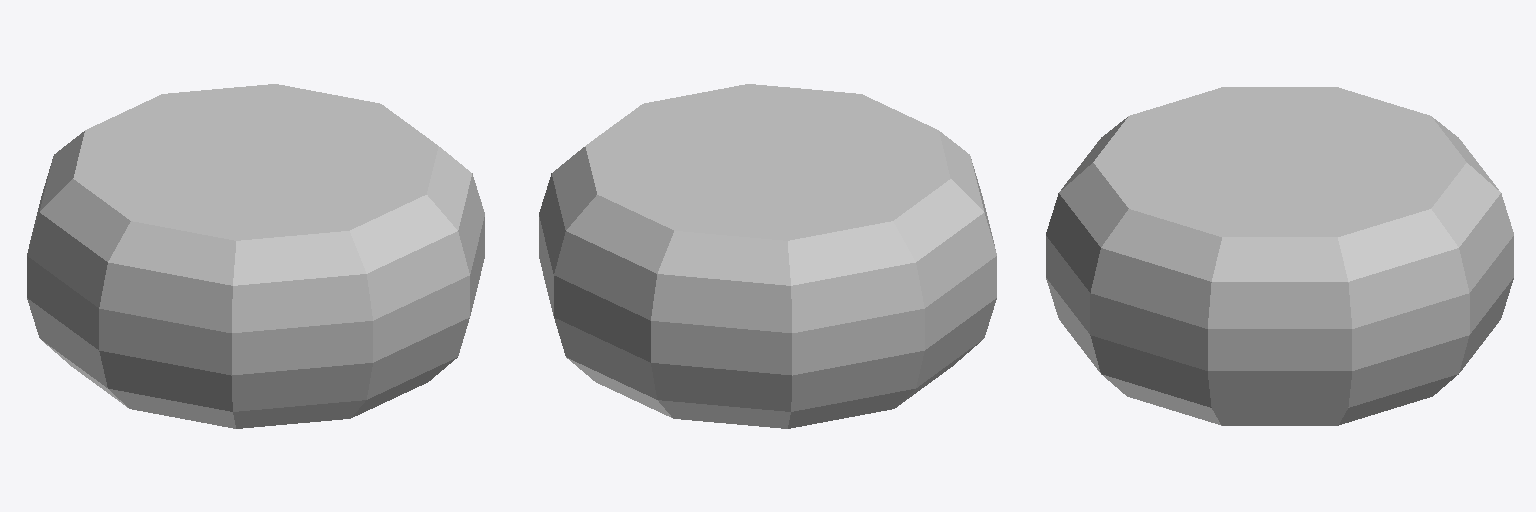
The model's file is pecorino.obj.
The picture shows the model from 3 angles: view 1: azimuth 30°, elevation 25°; view 2: azimuth 150°, elevation 25°; view 3: azimuth 270°, elevation 25°; orthographic projection.
Parts seen in each view (by area): view 1: obj0; view 2: obj0; view 3: obj0.
Boxes of the visible parts, <box> form: obj0: <box>27,84,484,428</box>; obj0: <box>539,84,996,428</box>; obj0: <box>1046,87,1513,425</box>.
Size of the model in its own units: 2.51 by 1.16 by 2.63.